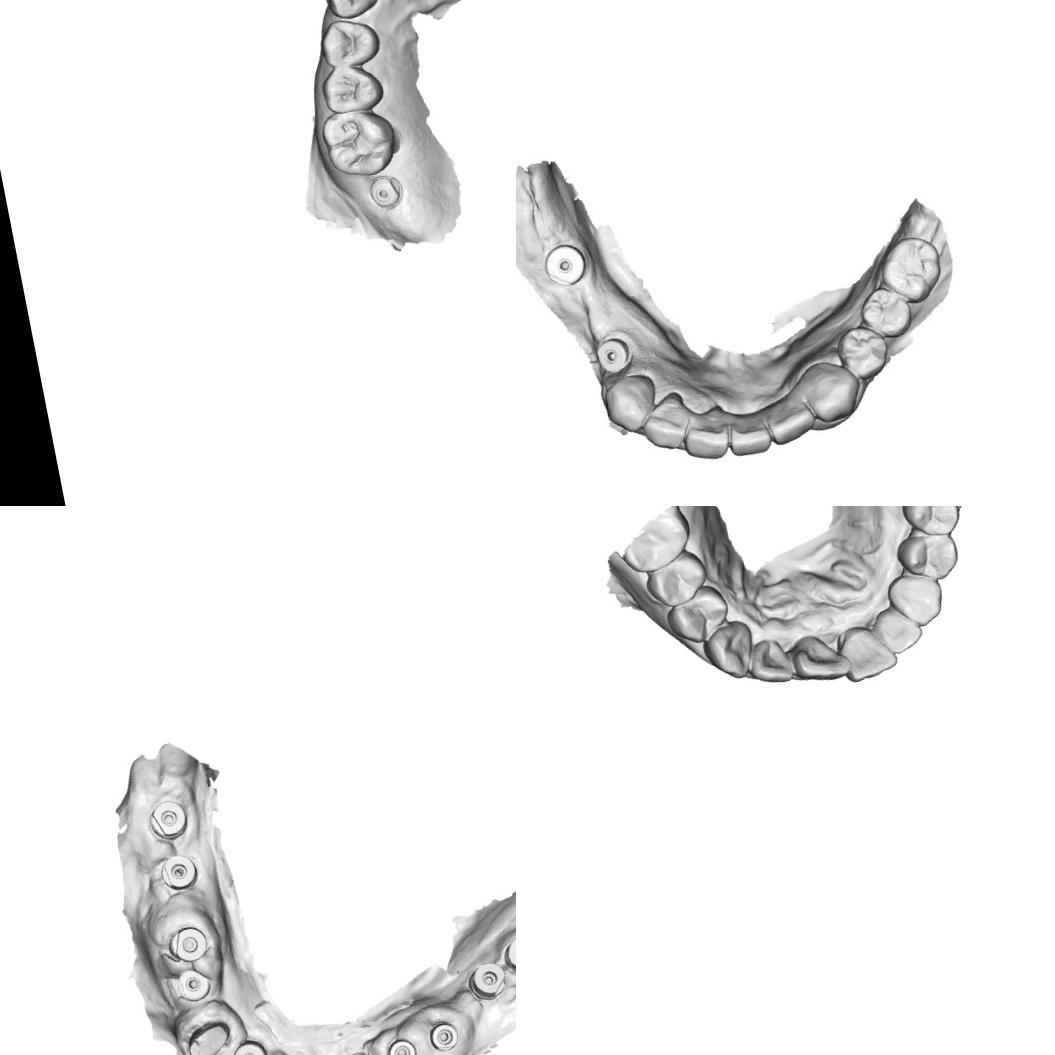canine: (882, 566, 948, 632), (697, 616, 759, 685), (802, 358, 864, 419), (602, 371, 656, 430), (317, 0, 383, 23)
crown: (173, 1012, 246, 1055)
implant: (461, 951, 512, 1006), (141, 793, 191, 845), (163, 917, 213, 967), (155, 848, 203, 898), (543, 244, 589, 294), (172, 960, 218, 1008), (423, 1013, 466, 1055), (364, 170, 406, 212), (594, 337, 629, 374), (225, 1032, 272, 1055), (498, 927, 516, 985), (382, 1031, 423, 1055)
incisor: (832, 616, 900, 684), (786, 626, 852, 688), (867, 601, 927, 659), (764, 392, 822, 442), (743, 634, 796, 688), (728, 413, 780, 466), (643, 402, 692, 451), (684, 414, 728, 455)
molar: (316, 100, 402, 182), (879, 235, 944, 302)
premolar: (660, 580, 734, 648), (640, 544, 713, 612), (892, 525, 964, 587), (316, 58, 386, 118), (314, 12, 384, 72), (839, 318, 894, 375), (860, 284, 914, 335), (896, 506, 964, 542)
